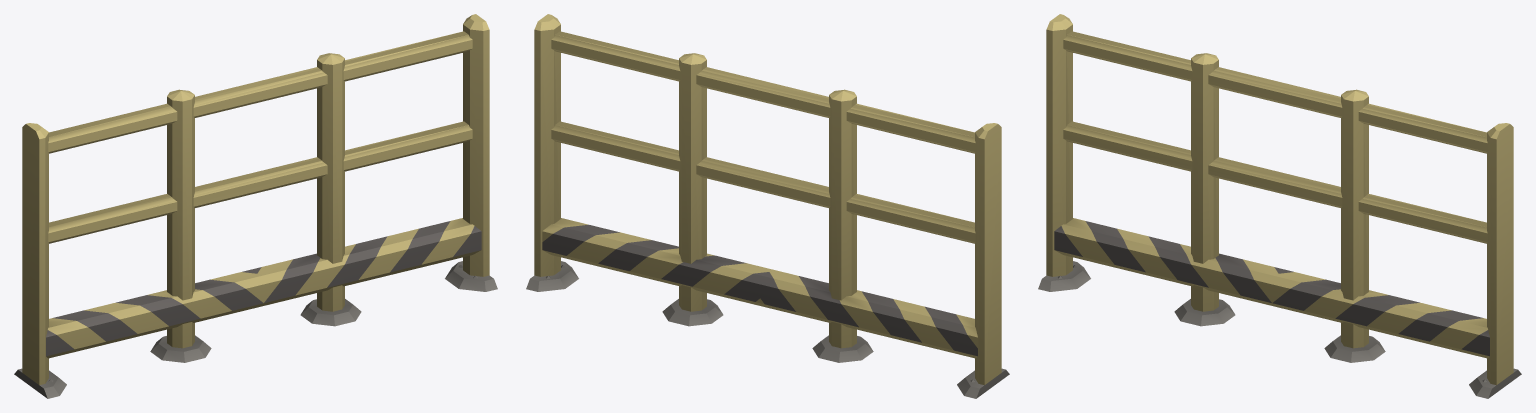
The model's file is rail.glb.
3 views of the same model, side by side, from view 1: azimuth 30°, elevation 25°; view 2: azimuth 150°, elevation 25°; view 3: azimuth 330°, elevation 25° (orthographic).
Visible parts, largest first — view 1: rail; view 2: rail; view 3: rail.
Part boxes in pixels (box(x1,y1,x2,y2)): rail: box(14, 14, 497, 398); rail: box(526, 14, 1009, 398); rail: box(1038, 14, 1521, 398).
Bounding box in the file's own units: 2 × 1.1 × 0.26.
